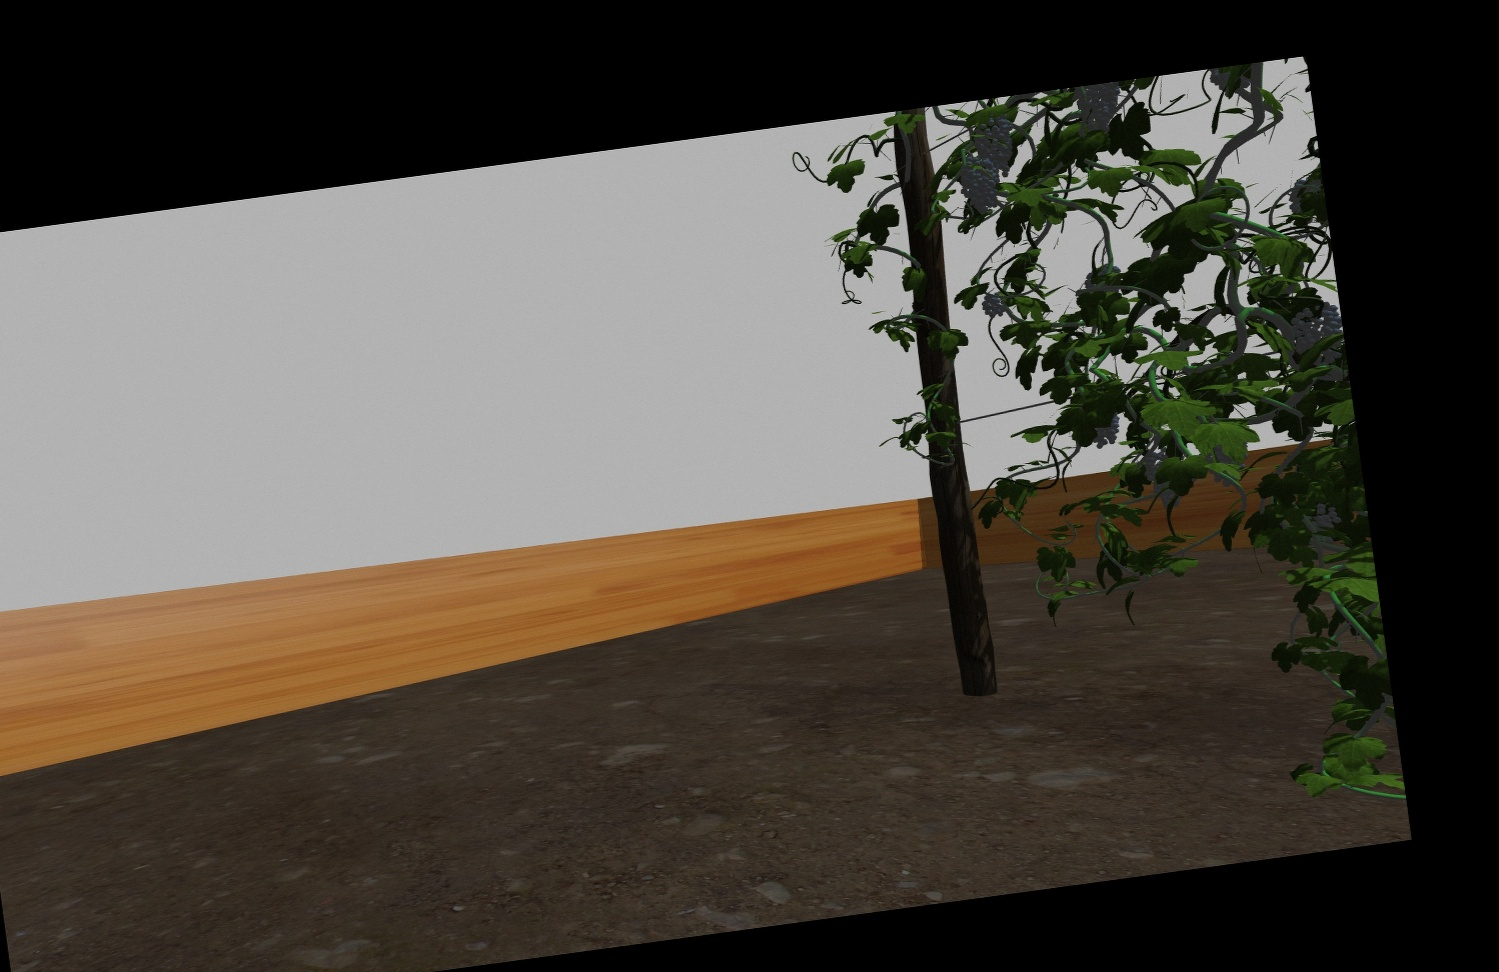grape: (1291, 303, 1339, 366), (975, 118, 1015, 177), (1075, 88, 1123, 129), (961, 158, 996, 210), (977, 291, 1010, 318)
